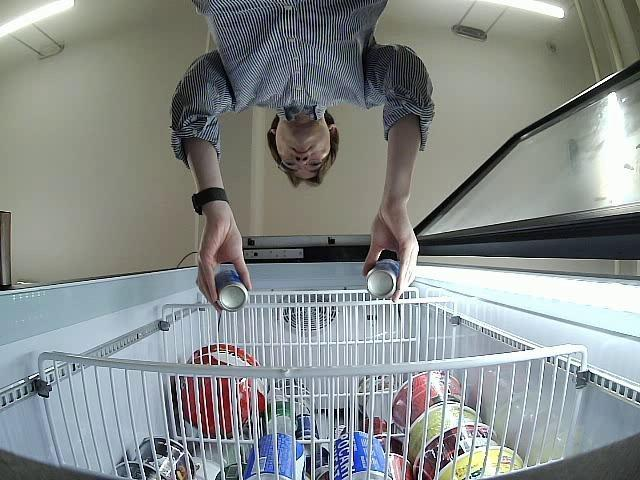15_letsbe: (213, 268, 249, 314), (365, 258, 402, 298)
